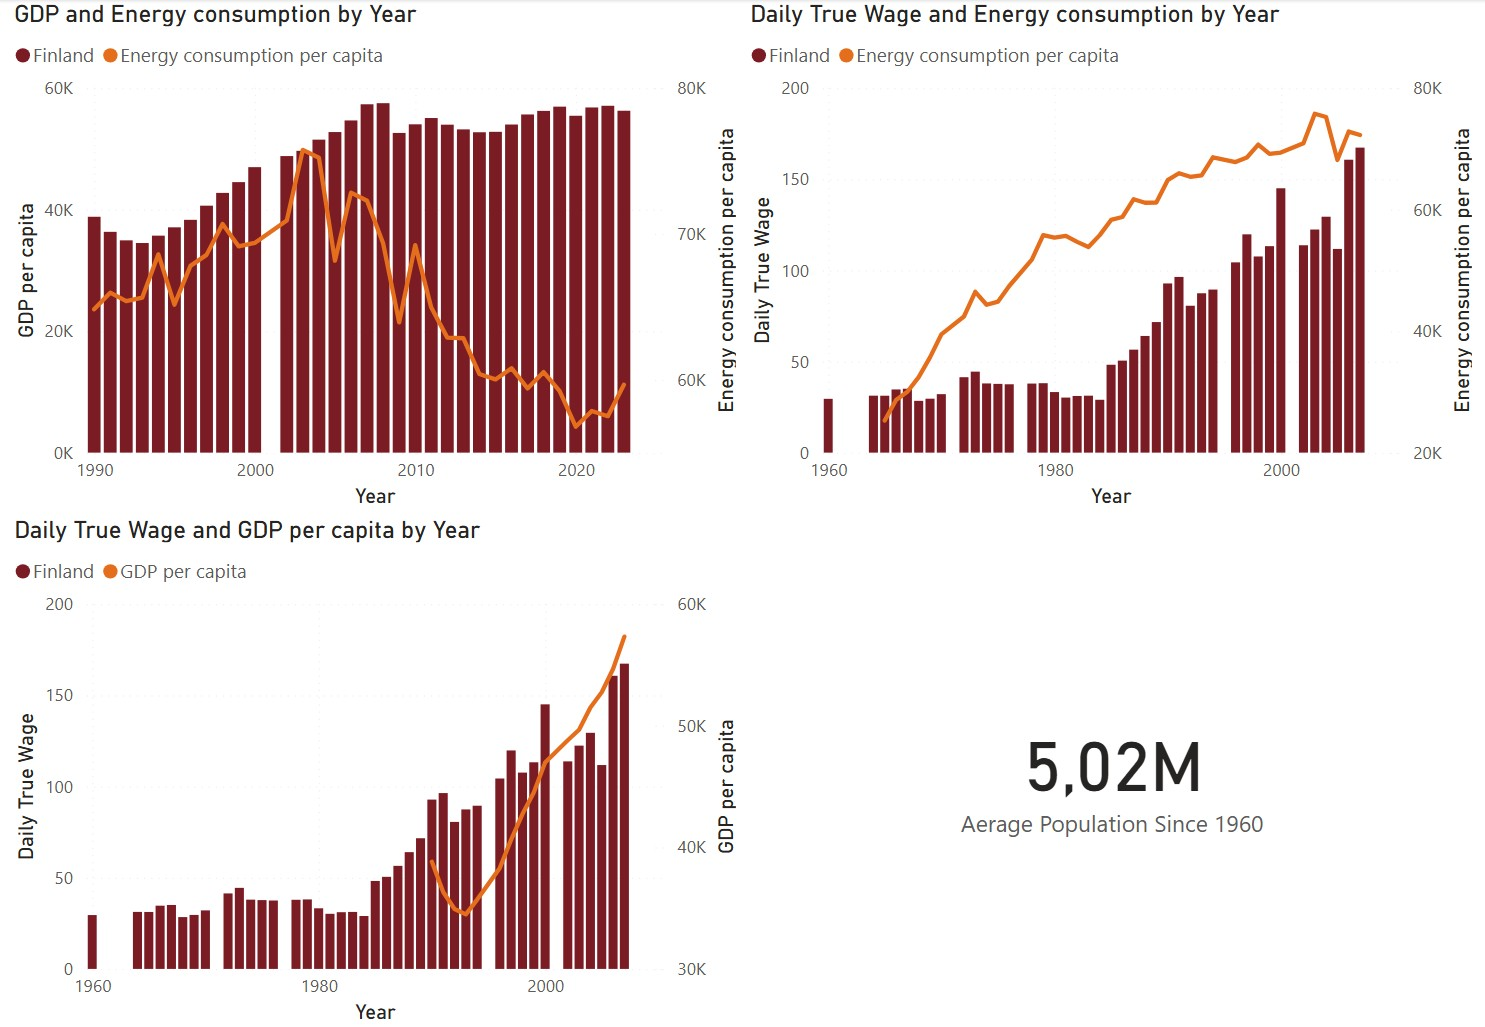

This screenshot's page, from the dashboard's own definition file:
{"tool":"powerbi","page":{"name":"Finland","canvas":[1280,720],"ordinal":5},"visuals":[{"type":"lineStackedColumnComboChart","title":"GDP and Energy consumption by Year","fields":{"Category":["SUMMARY_TABLE.year"],"Series":["SUMMARY_TABLE.country"],"Y":["Sum(SUMMARY_TABLE.gdp_per_capita)"],"Y2":["Sum(SUMMARY_TABLE.per_capita_energy_consumption)"]},"box":[126.8,0,513.1,359.5],"z":0},{"type":"lineStackedColumnComboChart","title":"Daily True Wage and Energy consumption by Year","fields":{"Category":["SUMMARY_TABLE.year"],"Series":["SUMMARY_TABLE.country"],"Y":["Sum(SUMMARY_TABLE.daily_true_wage)"],"Y2":["Sum(SUMMARY_TABLE.per_capita_energy_consumption)"]},"box":[639.9,0,513.1,359.5],"z":1000},{"type":"lineStackedColumnComboChart","title":"Daily True Wage and GDP per capita by Year","fields":{"Category":["SUMMARY_TABLE.year"],"Series":["SUMMARY_TABLE.country"],"Y":["Sum(SUMMARY_TABLE.daily_true_wage)"],"Y2":["Sum(SUMMARY_TABLE.gdp_per_capita)"]},"box":[126.5,359.7,513.4,359.7],"z":2000},{"type":"card","fields":{"Values":["SUMMARY_TABLE.Avg Population Post 1959"]},"box":[640.3,359.7,513.2,359.7],"z":3000}]}

Visuals, with their boxes on the page's 1280x720 design canvas (x1, y1, x2, y2). These are canvas units, not pixel positions in the 1485x1027 screenshot, which may show the page scaled, cropped or inside an application window:
"GDP and Energy consumption by Year" lineStackedColumnComboChart: x1=127, y1=0, x2=640, y2=360
"Daily True Wage and Energy consumption by Year" lineStackedColumnComboChart: x1=640, y1=0, x2=1153, y2=360
"Daily True Wage and GDP per capita by Year" lineStackedColumnComboChart: x1=126, y1=360, x2=640, y2=719
card - SUMMARY_TABLE.Avg Population Post 1959: x1=640, y1=360, x2=1154, y2=719
